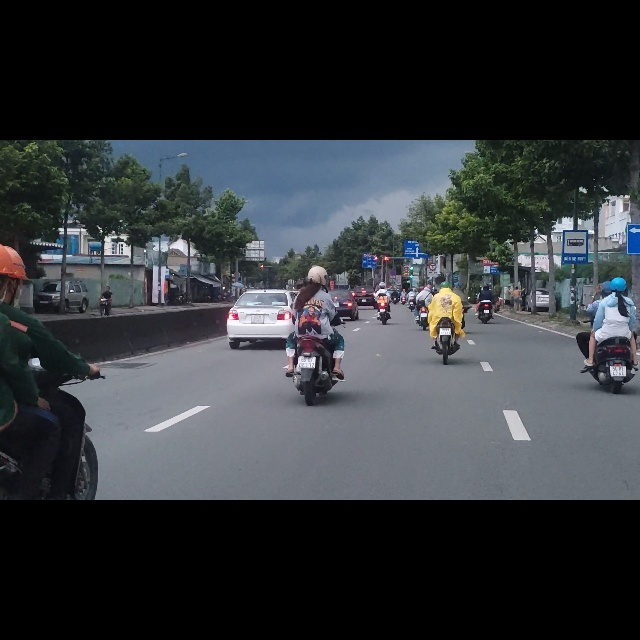bien_chi_dan: (563, 159, 588, 218), (362, 207, 377, 228), (429, 218, 437, 232)
